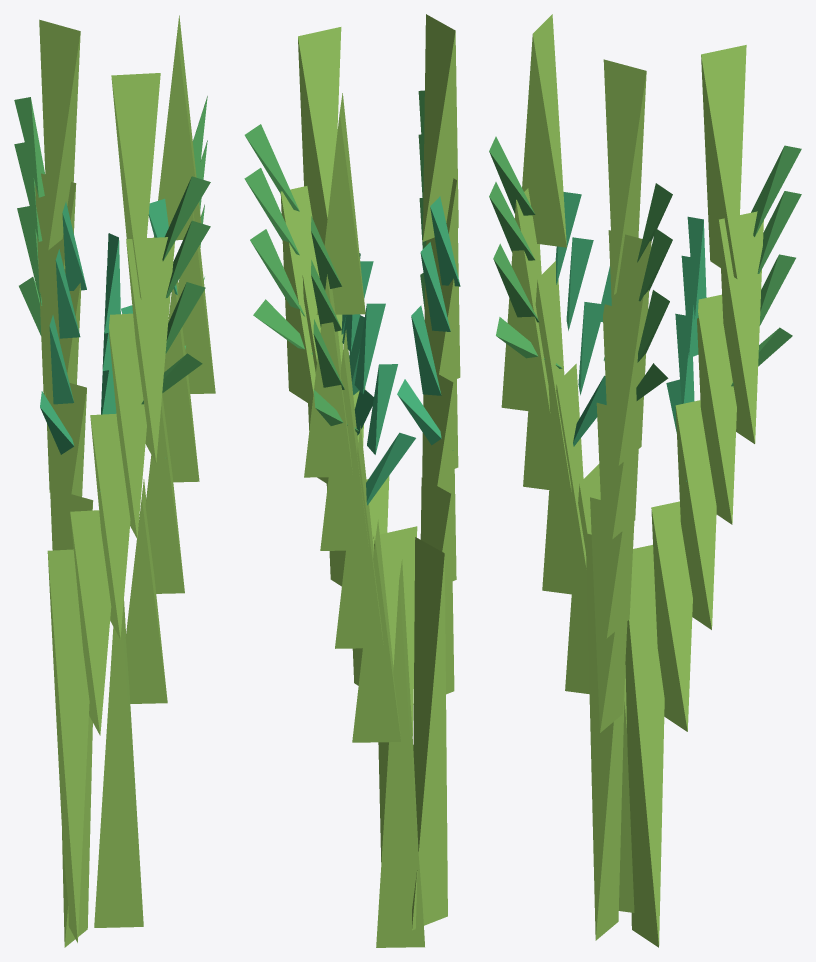
The model's file is ローズマリー.fbx.
3 views of the same model, side by side, from view 1: azimuth 30°, elevation 25°; view 2: azimuth 150°, elevation 25°; view 3: azimuth 270°, elevation 25° (orthographic). The views are drawn at different scales.
Parts seen in each view (by area): view 1: 立方体.005, 立方体.017; view 2: 立方体.005, 立方体.017; view 3: 立方体.005, 立方体.017.
Boxes of the visible parts, x1,y1,x2,y2 form: 立方体.005: (35,15,215,947); 立方体.017: (14,96,210,491); 立方体.005: (280,14,460,947); 立方体.017: (244,90,460,505); 立方体.005: (501,14,763,947); 立方体.017: (489,136,801,481).
Size of the model in its own units: 108 by 511 by 157.
